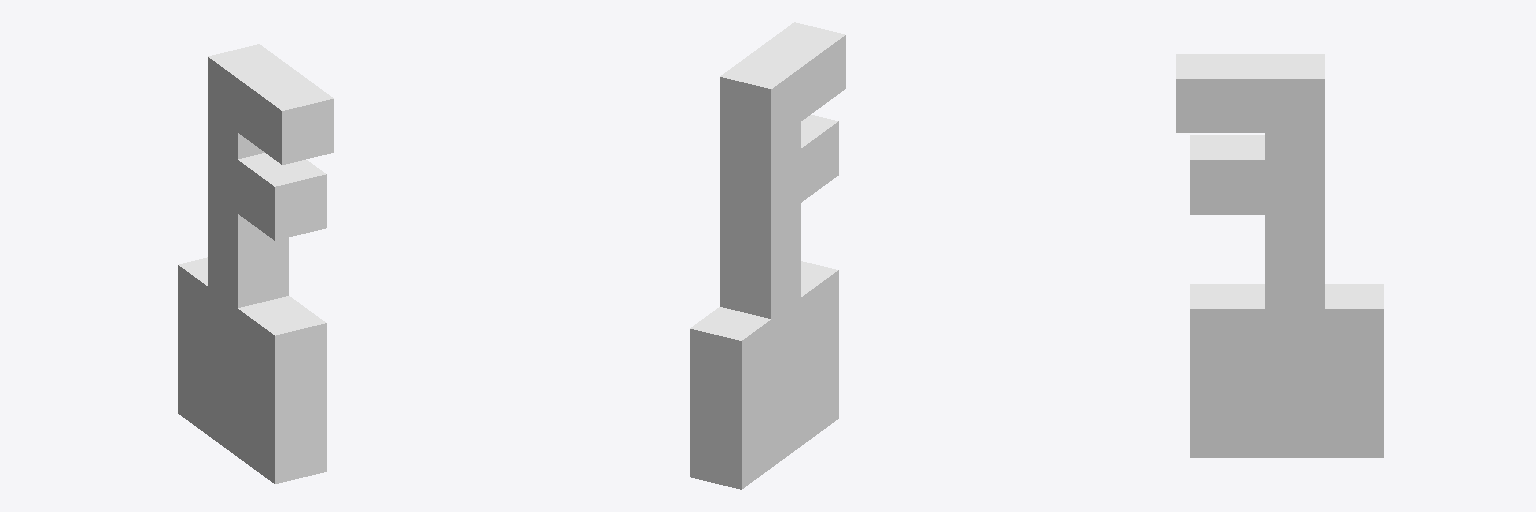
File: SquareKey.obj
The picture shows the model from 3 angles: view 1: azimuth 30°, elevation 25°; view 2: azimuth 150°, elevation 25°; view 3: azimuth 270°, elevation 25°; orthographic projection.
Bounding box in the file's own units: 4 × 28 × 14.